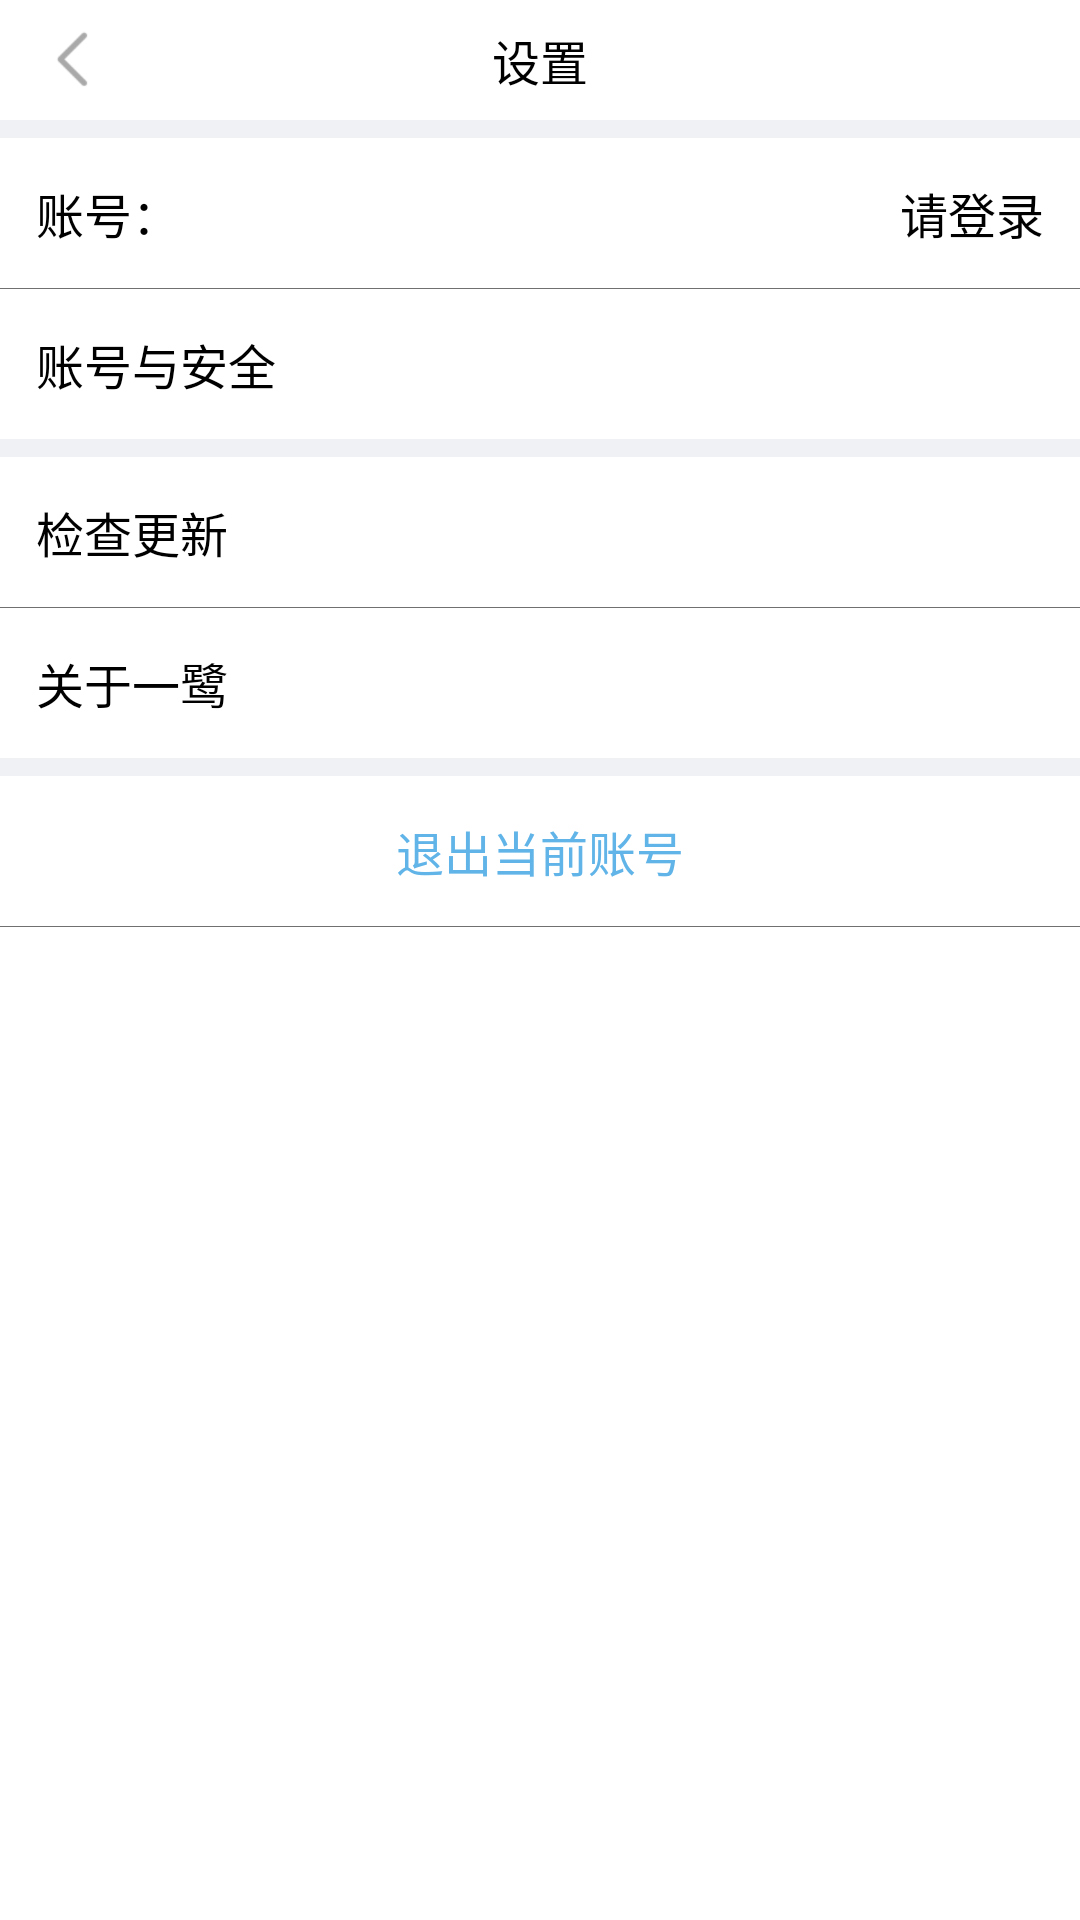

Icons on this 1080 × 1920 Android screen, each with its box as [x1, y1, x2, y2]:
fanhui: [57, 32, 87, 86]
